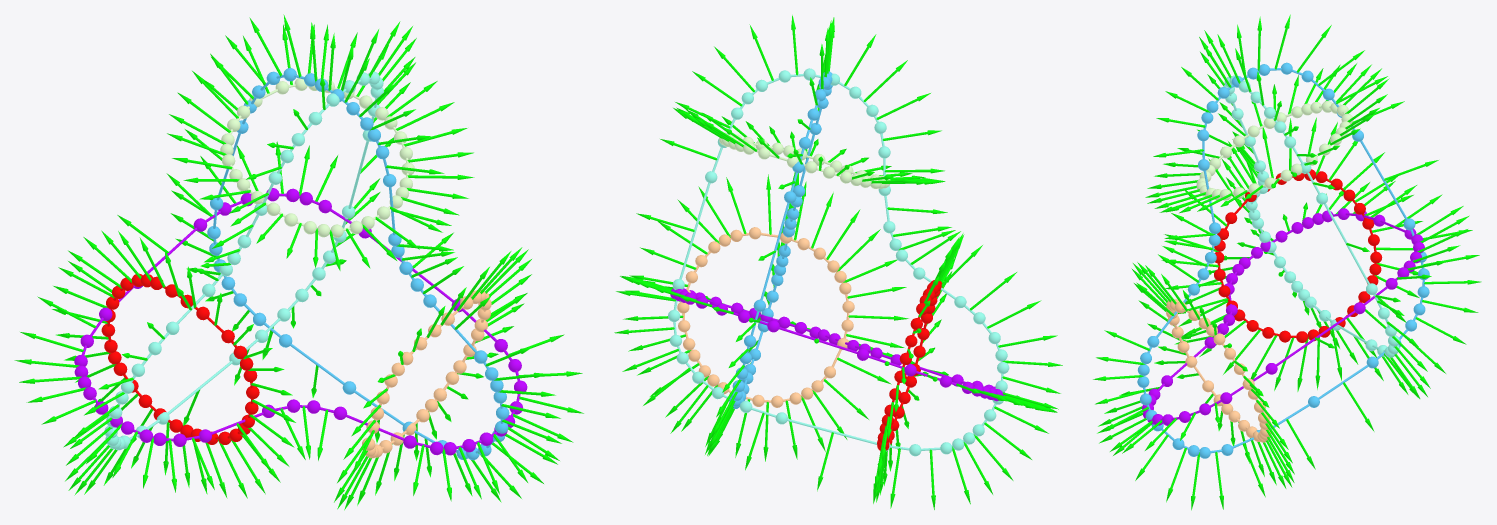
Rendered from flowrep_trebol.gltf.
The picture shows the model from 3 angles, left to right: view 1: azimuth 30°, elevation 25°; view 2: azimuth 150°, elevation 25°; view 3: azimuth 270°, elevation 25°; orthographic projection. The views are drawn at different scales.
Size of the model in its own units: 0.8297 by 0.8023 by 0.6528.
